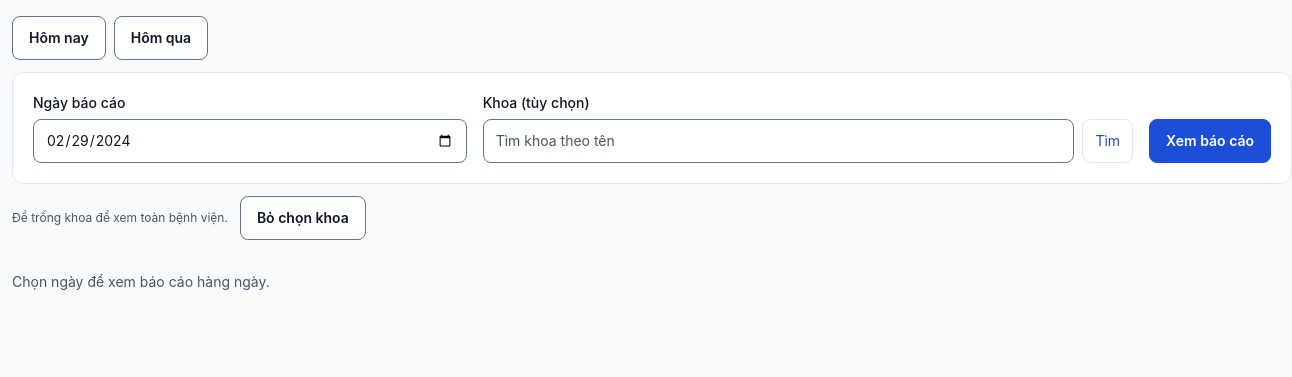
Scenario: Report shared department selection › preserves missing-data errors instead of manufacturing a zero report
This screenshot has width=1292, height=377.
Type "Nội" into the field labelled "Khoa (tùy chọn)" at {"x": 778, "y": 141}, box [483,119,1074,163]
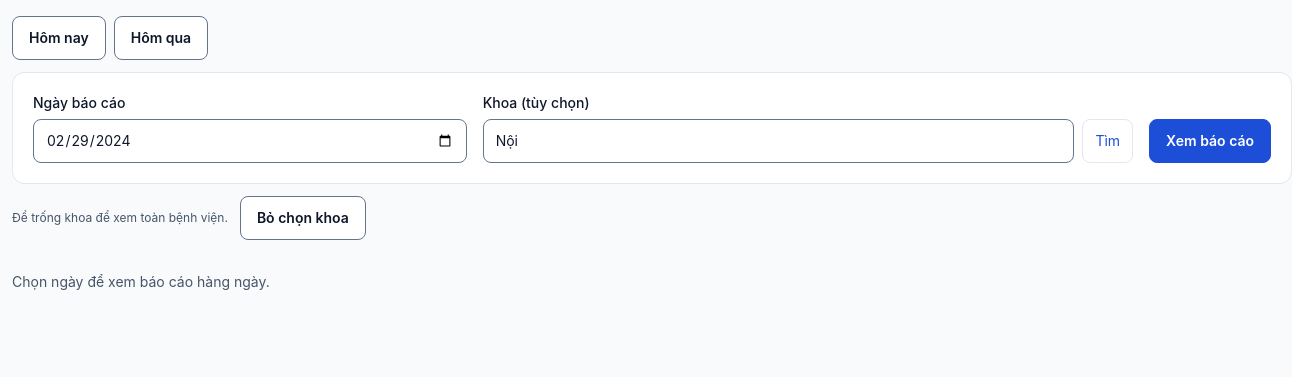
Click the button with aria-label "Tìm lựa chọn" at {"x": 1108, "y": 141}, box [1082,119,1133,163]
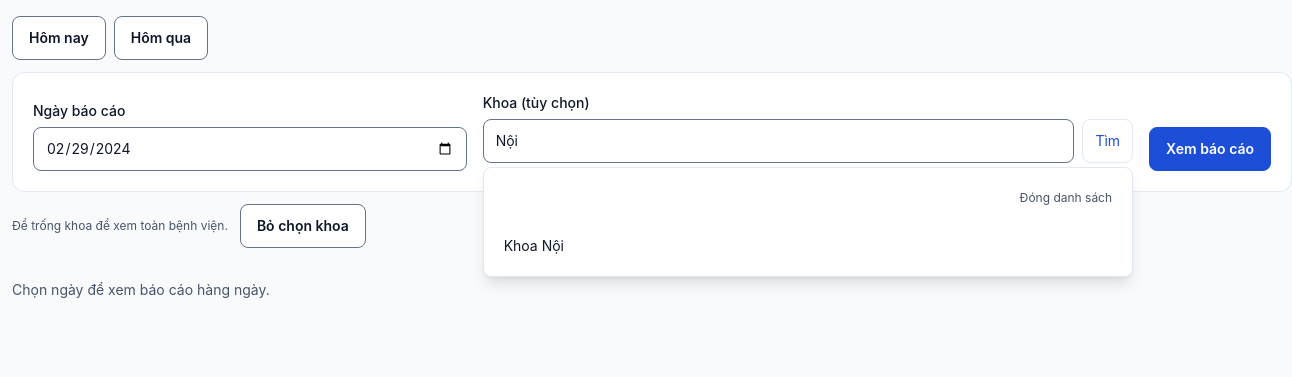
Click the button "Khoa Nội" at {"x": 534, "y": 246}, box [492,224,1124,268]
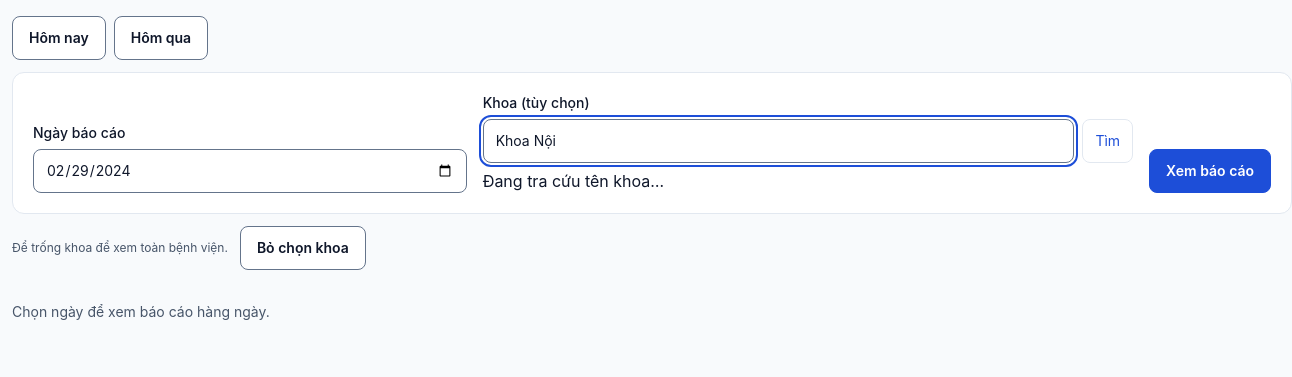
Submit the form labelled "Ngày báo cáo", box [12,72,1291,214]
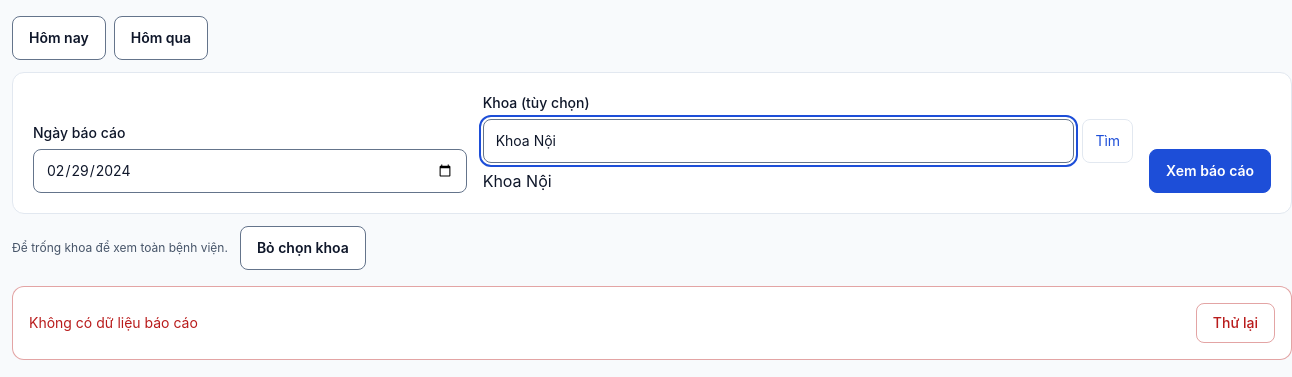
Expected: the text "Không có dữ liệu báo cáo" is shown, [29,313,198,333]
